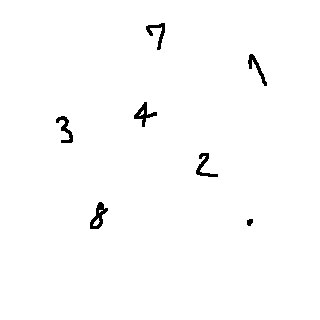.: (241, 210, 263, 234)
1: (242, 48, 275, 89)
2: (187, 146, 226, 187)
3: (53, 114, 81, 146)
4: (119, 97, 174, 129)
7: (143, 13, 169, 56)
8: (80, 195, 115, 238)
